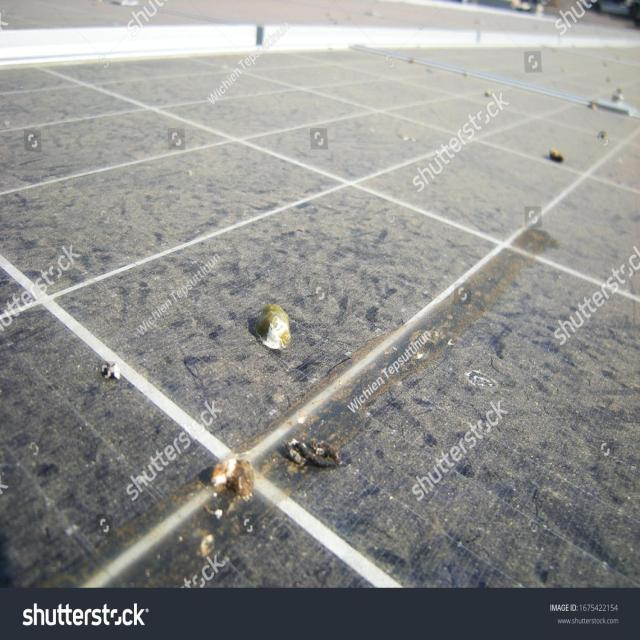soiled: (2, 41, 638, 590)
